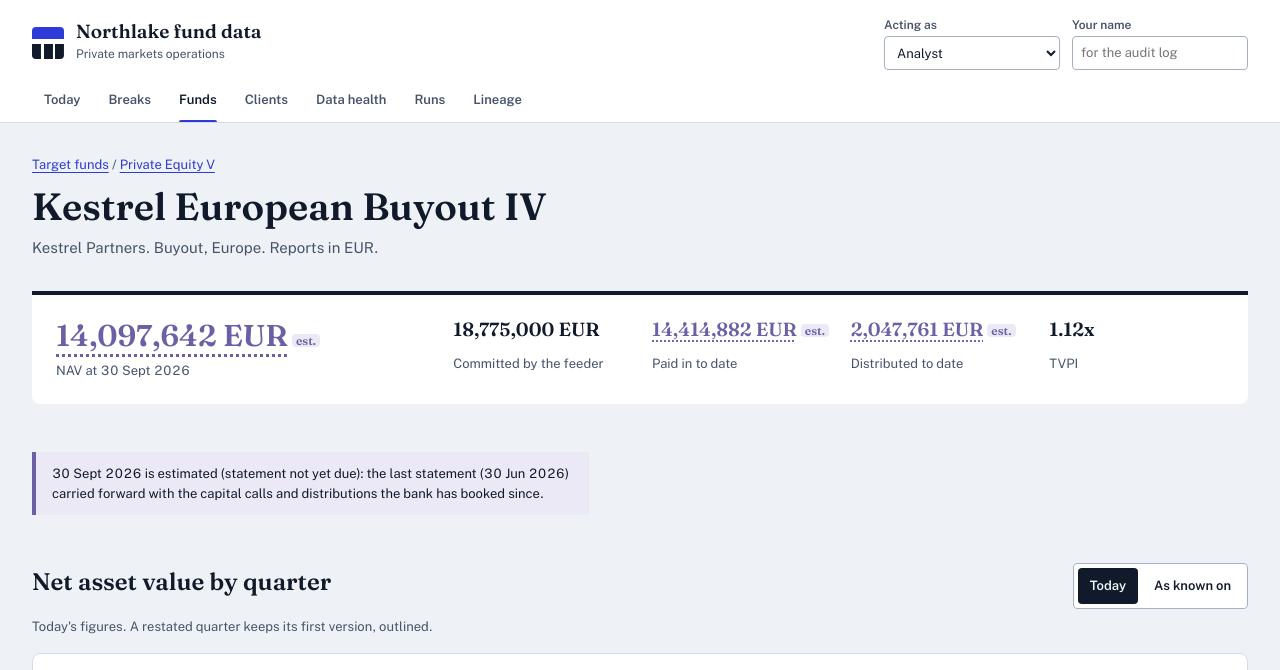
Test case: funds › shows what the platform knew on an earlier day
Expected: the heading "Kestrel European Buyout IV" is shown, [32,186,547,228]
Click the radio button labelled "As known on" at (1193, 586), box [1154,578,1231,593]
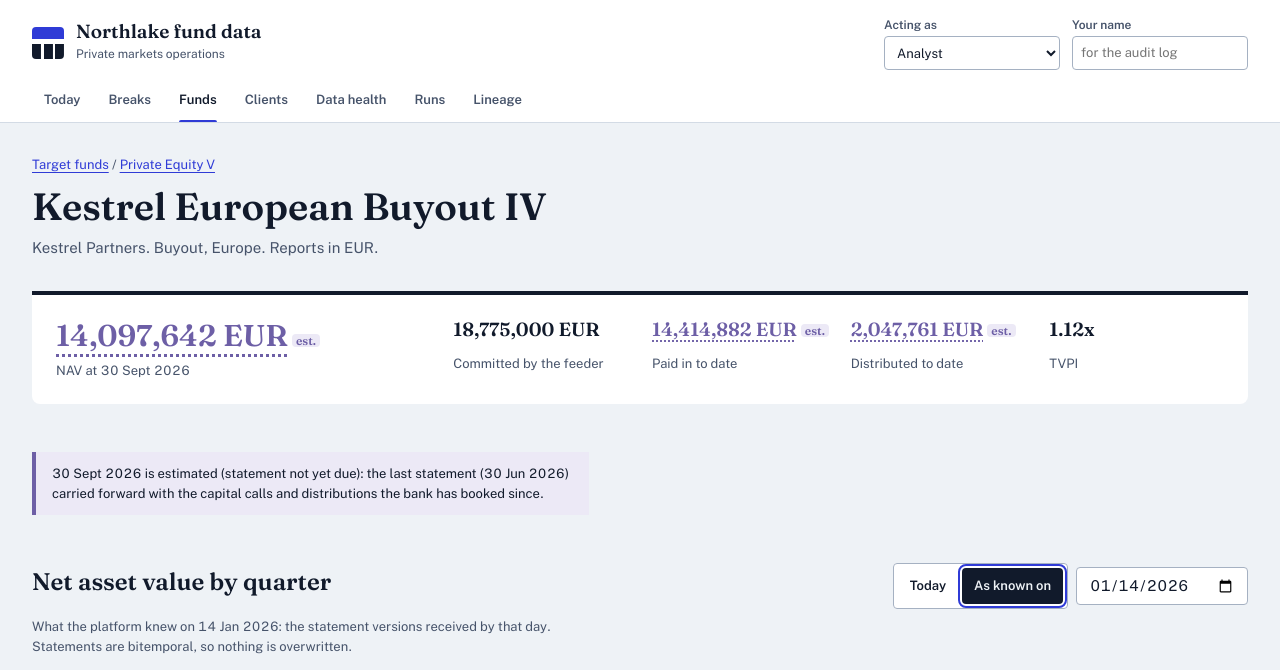
Type "2026-02-01" into the date field named "Known on" at (1162, 586), box [1076,567,1248,605]
(page scrolled)
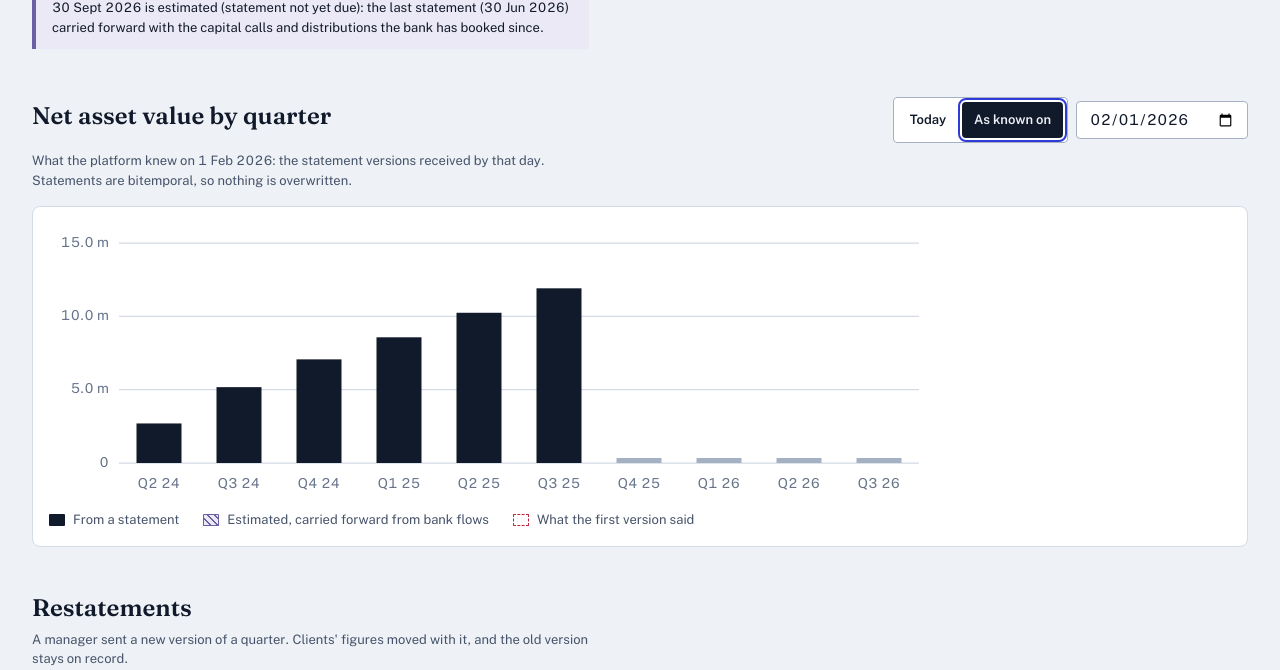
Expected: the picture named "as known on 1 Feb 2026: 6 of 10 quarters" is shown, [49,223,919,498]
